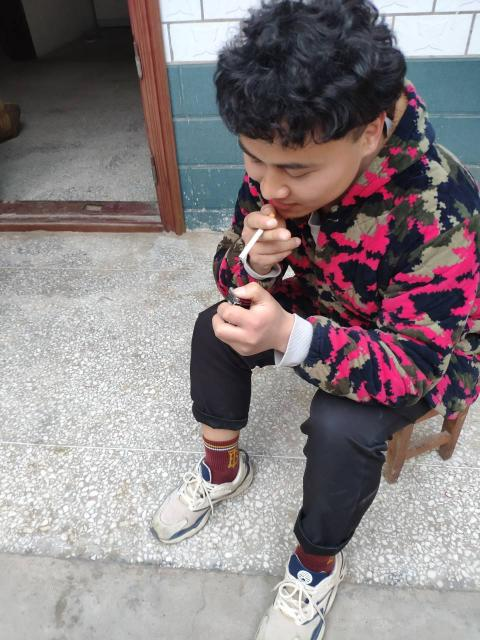Cigarette: (226, 214, 290, 264)
